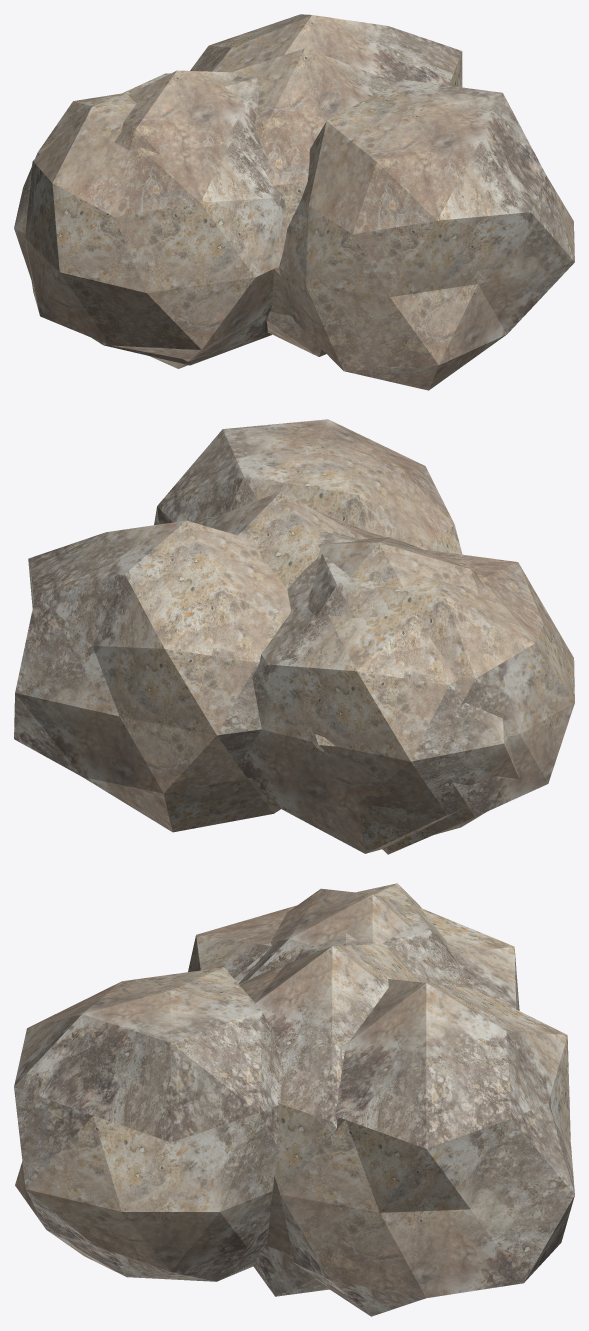
Rendered from rubble.glb.
3 views of the same model, one above another, from view 1: azimuth 30°, elevation 25°; view 2: azimuth 150°, elevation 25°; view 3: azimuth 270°, elevation 25° (orthographic). The views are drawn at different scales.
Parts seen in each view (by area): view 1: Stone; view 2: Stone; view 3: Stone.
Part boxes in pixels (left/top/right/bottom): Stone: left=14, top=14, right=574, bottom=390; Stone: left=14, top=419, right=574, bottom=854; Stone: left=14, top=883, right=574, bottom=1316.
Size of the model in its own units: 2.05 by 1.26 by 1.9.
Materials: 1 (1 with a texture image).
